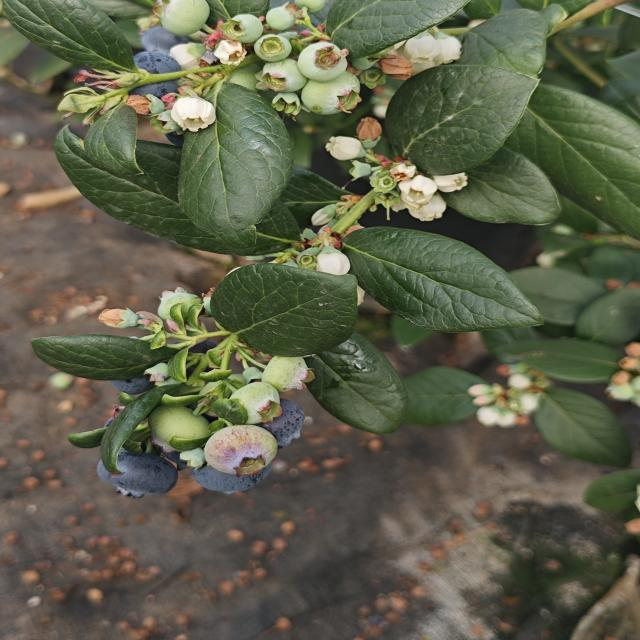ripe: (94, 449, 176, 502), (182, 451, 252, 496), (111, 355, 169, 399), (138, 32, 188, 82), (273, 398, 316, 444)
